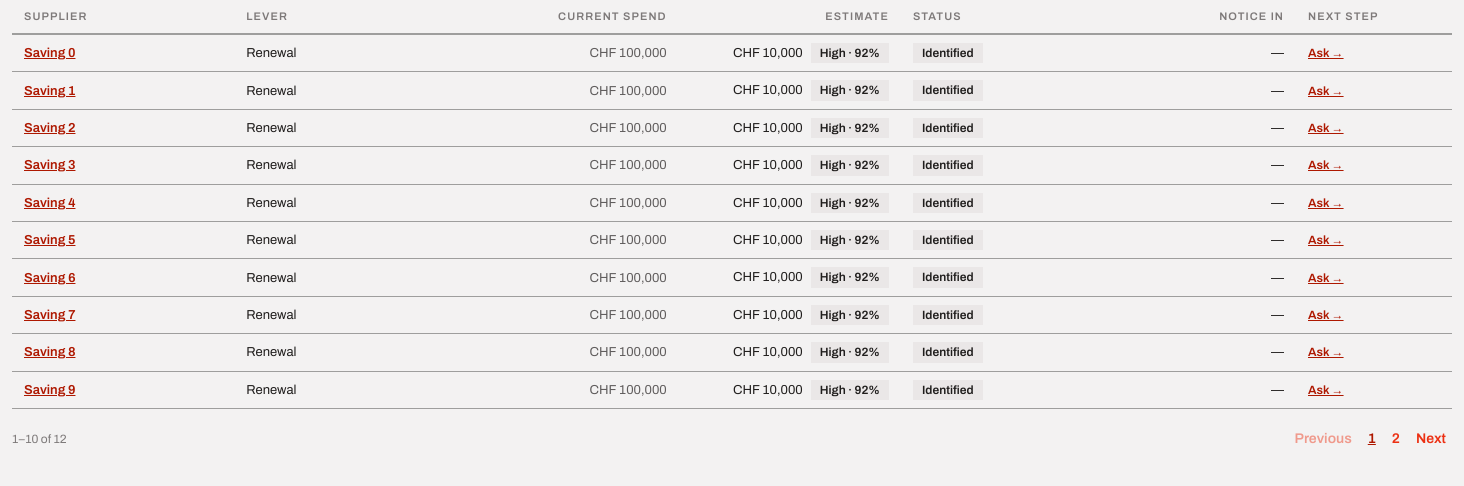
Scenario: OpportunitiesTable pagination › defaults to 10 rows and pages the rest
Expected: the link "Saving 0" is shown, [24,46,76,60]
Expected: the link "Saving 10" is not shown
Click the button "Next" at (1431, 439), box [1410,421,1452,458]
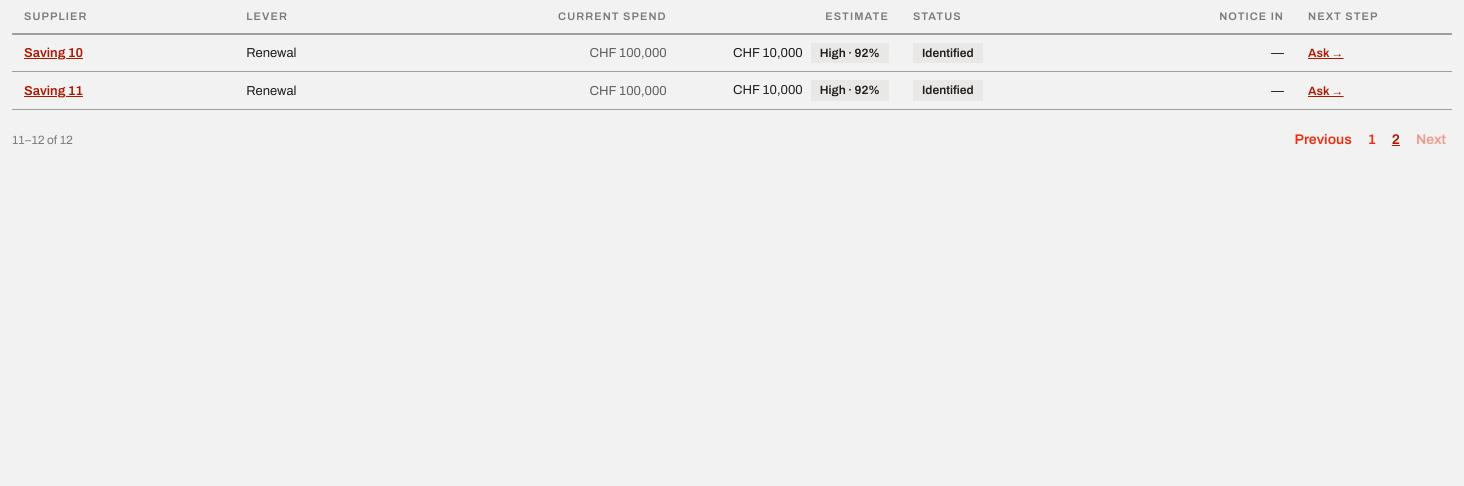
Now the link "Saving 10" is shown, box [24,46,83,60]
Now the link "Saving 0" is gone
